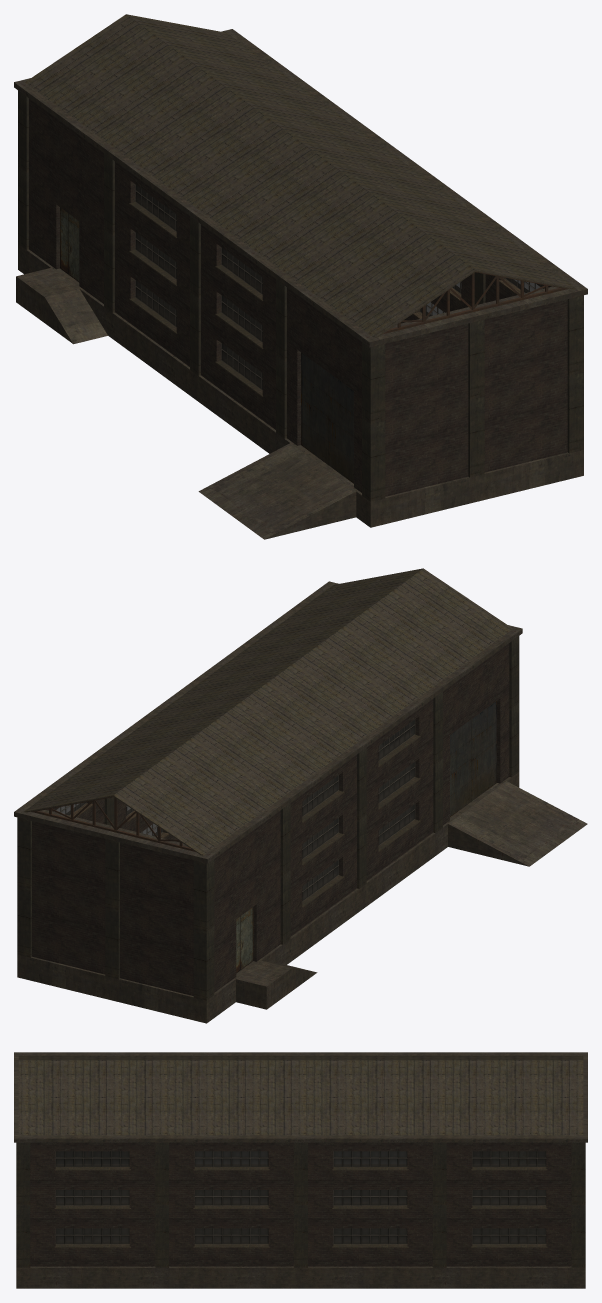
The model's file is warehouse_mx_4.glb.
3 views of the same model, one above another, from view 1: azimuth 30°, elevation 25°; view 2: azimuth 150°, elevation 25°; view 3: azimuth 270°, elevation 25° (orthographic). The views are drawn at different scales.
Visible parts, largest first — view 1: warehouse_mx_4, garage_door_hr_4_a_piece_1, garage_door_hr_4_a_piece_2, door_hm_1_a_piece_2; view 2: warehouse_mx_4, garage_door_hr_4_a_piece_2, garage_door_hr_4_a_piece_1, door_hm_1_a_piece_2; view 3: warehouse_mx_4.
Part boxes in pixels (<box>): warehouse_mx_4: <box>14,14,587,539</box>; garage_door_hr_4_a_piece_1: <box>301,352,328,465</box>; garage_door_hr_4_a_piece_2: <box>329,373,353,483</box>; door_hm_1_a_piece_2: <box>68,214,79,282</box>; warehouse_mx_4: <box>14,568,587,1023</box>; garage_door_hr_4_a_piece_2: <box>471,701,496,800</box>; garage_door_hr_4_a_piece_1: <box>450,719,471,816</box>; door_hm_1_a_piece_2: <box>240,907,253,969</box>; warehouse_mx_4: <box>14,1052,587,1288</box>.
Bounding box in the file's own units: 12.4 × 8.87 × 24.8.
11 materials, 11 textured.
